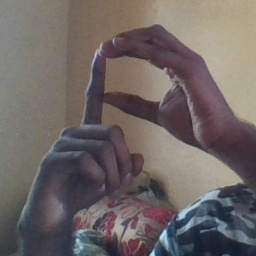P: (46, 18, 218, 201)
